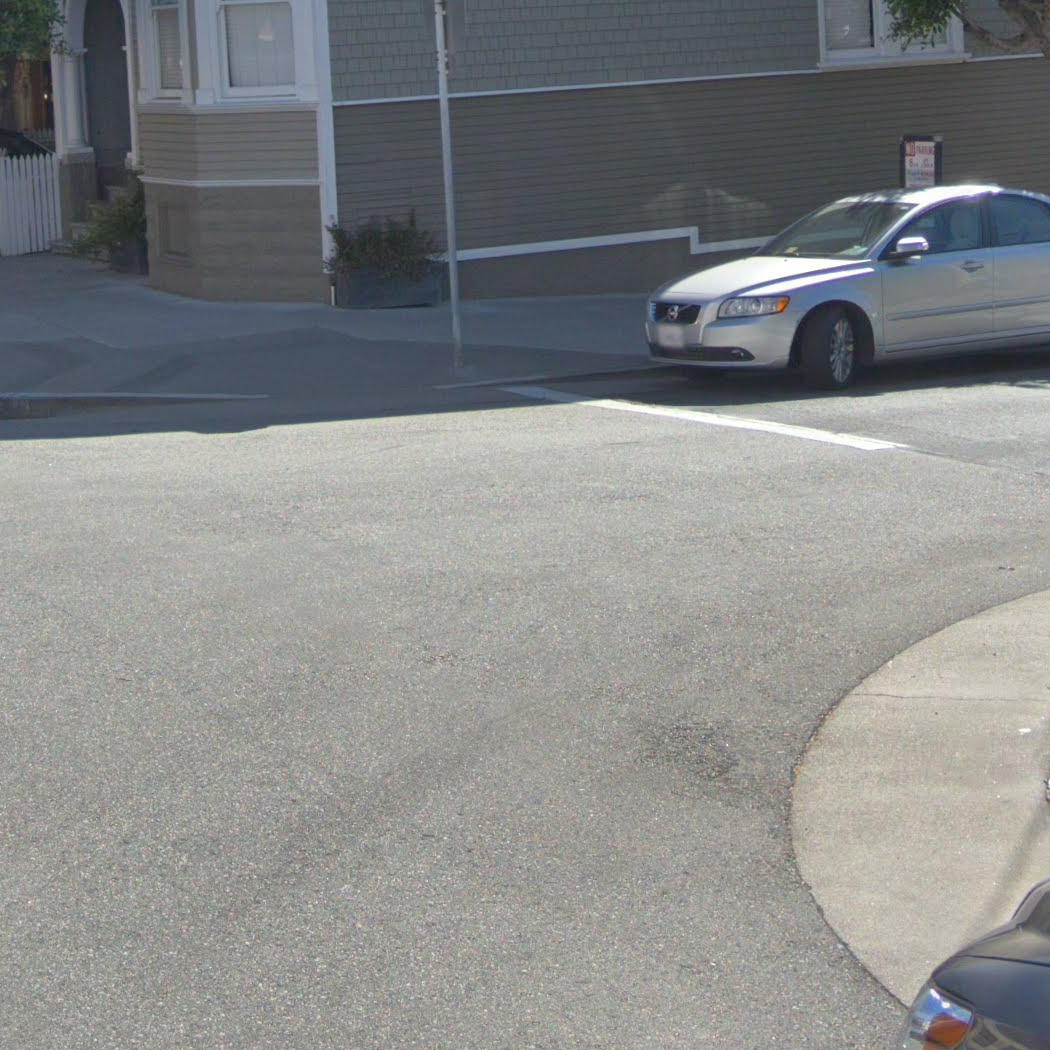No Parking: (904, 139, 936, 188)
